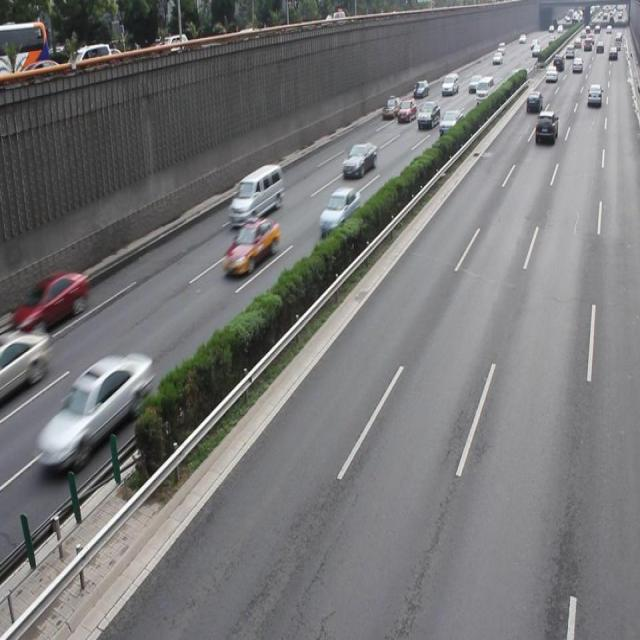car: (42, 352, 151, 469), (24, 271, 88, 329), (220, 216, 279, 276), (318, 186, 360, 234), (340, 141, 377, 177)
truck: (228, 163, 284, 223)
